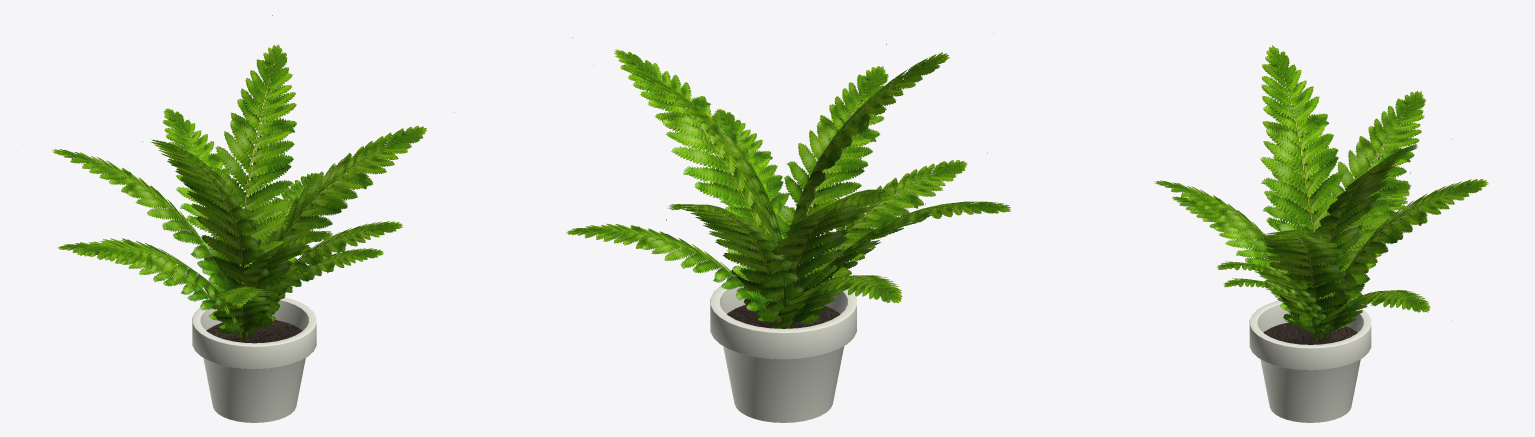
The model's file is FernPlantPotted.FBX.
3 renders of one model, left to right at view 1: azimuth 30°, elevation 25°; view 2: azimuth 150°, elevation 25°; view 3: azimuth 270°, elevation 25°, orthographic. The views are drawn at different scales.
Parts seen in each view (by area): view 1: Cylinder001, Plane012, Plane002, Plane011, Plane004, Plane005, Plane001, Plane003, Plane007, Plane006, Plane008, Plane010 (+1 smaller); view 2: Cylinder001, Plane002, Plane003, Plane004, Plane001, Plane006, Plane011, Plane009, Plane012, Plane005, Plane008, Plane007; view 3: Cylinder001, Plane011, Plane004, Plane002, Plane012, Plane001, Plane003, Plane009, Plane006, Plane007, Plane010, Plane005 (+1 smaller).
Part boxes in pixels (box(x1,y1,x2,y2)): Cylinder001: box(192, 297, 316, 422); Plane012: box(208, 15, 296, 338); Plane002: box(248, 112, 454, 332); Plane011: box(150, 139, 271, 340); Plane004: box(52, 149, 242, 339); Plane005: box(77, 238, 242, 339); Plane001: box(162, 108, 246, 338); Plane003: box(225, 231, 332, 339); Plane007: box(248, 221, 402, 336); Plane006: box(212, 286, 272, 340); Plane008: box(57, 241, 240, 339); Plane010: box(248, 248, 383, 337); Cylinder001: box(710, 276, 856, 422); Plane002: box(572, 37, 781, 328); Plane003: box(774, 44, 888, 328); Plane004: box(757, 189, 925, 328); Plane001: box(666, 204, 805, 328); Plane006: box(799, 153, 987, 324); Plane011: box(782, 52, 949, 328); Plane009: box(566, 223, 775, 323); Plane012: box(628, 69, 790, 328); Plane005: box(787, 201, 1010, 328); Plane008: box(770, 275, 902, 328); Plane007: box(715, 108, 798, 328); Cylinder001: box(1249, 300, 1371, 422); Plane011: box(1260, 45, 1351, 339); Plane004: box(1314, 91, 1425, 338); Plane002: box(1262, 229, 1350, 341); Plane012: box(1298, 139, 1451, 339); Plane001: box(1322, 179, 1488, 336); Plane003: box(1155, 180, 1316, 339); Plane009: box(1311, 290, 1430, 340); Plane006: box(1172, 196, 1317, 339); Plane007: box(1217, 261, 1329, 341); Plane010: box(1223, 278, 1325, 341); Plane005: box(1262, 120, 1329, 303).
Size of the model in its own units: 225 by 169 by 194.
3 materials, 3 textured.
